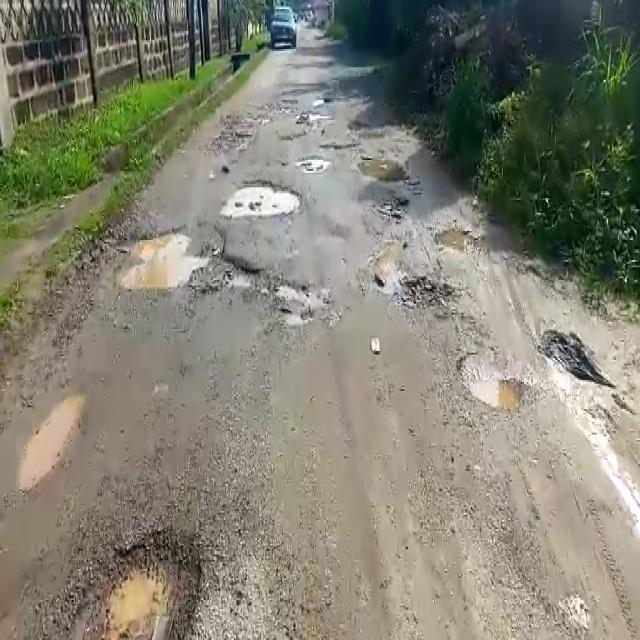pothole: (84, 532, 215, 637), (110, 222, 251, 294), (20, 393, 85, 489), (456, 340, 530, 413), (539, 328, 605, 391), (221, 175, 304, 218), (273, 281, 332, 330), (393, 271, 461, 313), (435, 224, 477, 252), (298, 153, 332, 170)
